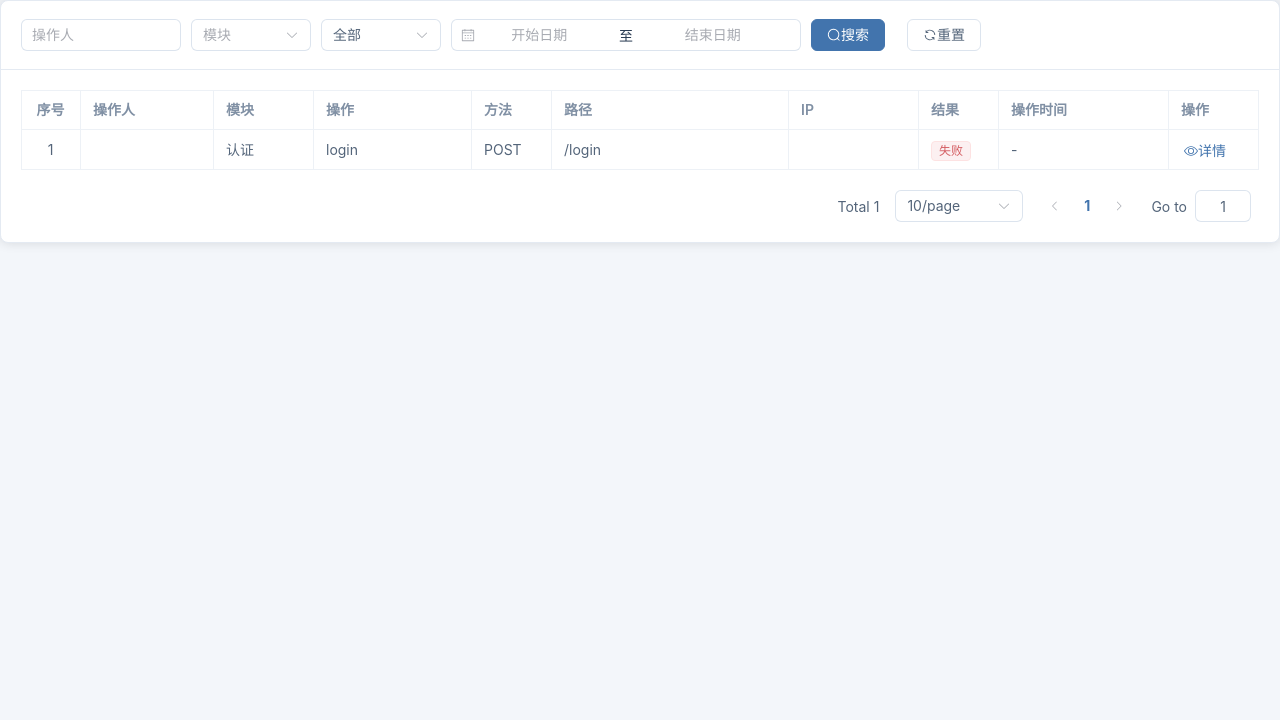
Test: audit filtering › failure details identify anonymous actors and show the server error
Click the button "详情": (1205, 151) left=1181, top=141, right=1229, bottom=161
(page scrolled)
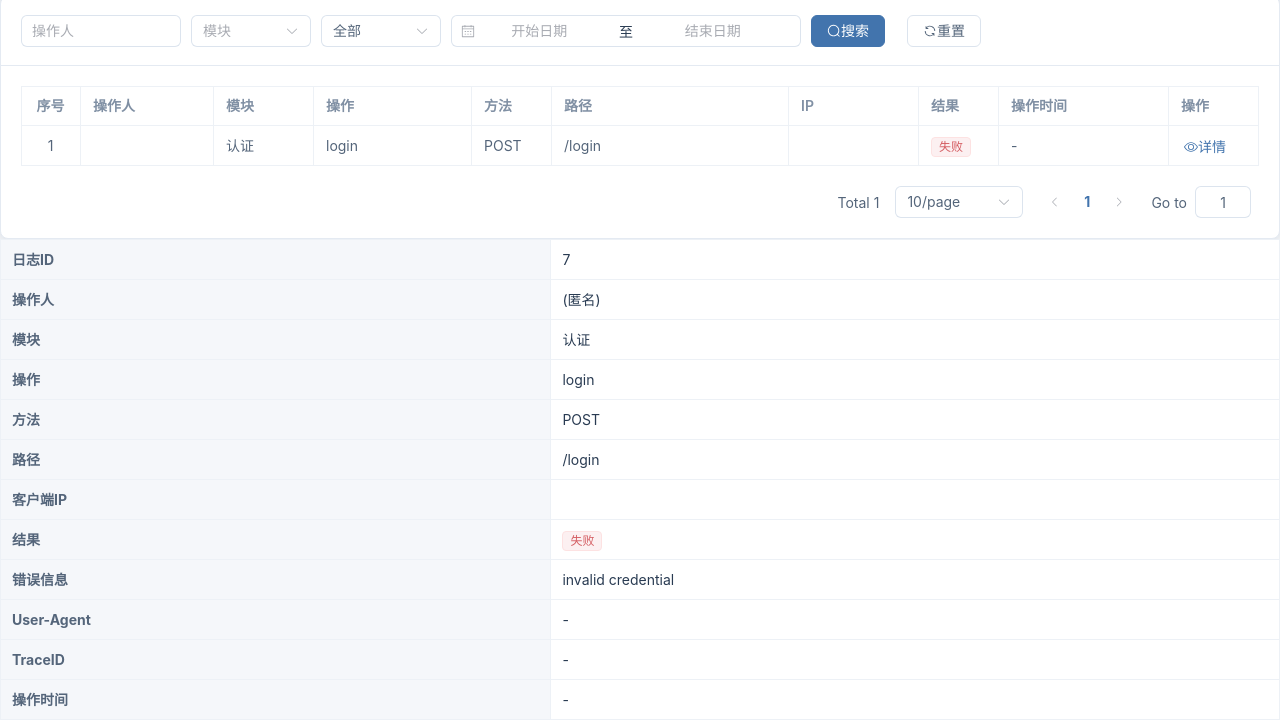
Result: the element that starts with "日志ID" shows "(匿名)" at left=562, top=291, right=601, bottom=308
Result: the element that starts with "日志ID" shows "invalid credential" at left=562, top=571, right=674, bottom=588
Result: the element that starts with "日志ID" shows "失败" at left=570, top=533, right=594, bottom=548
